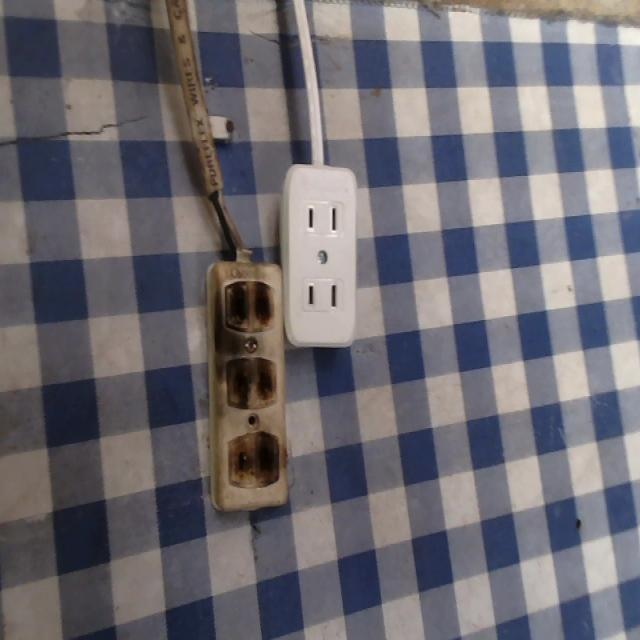-: (224, 425, 281, 487), (220, 272, 276, 333), (222, 352, 278, 411)
